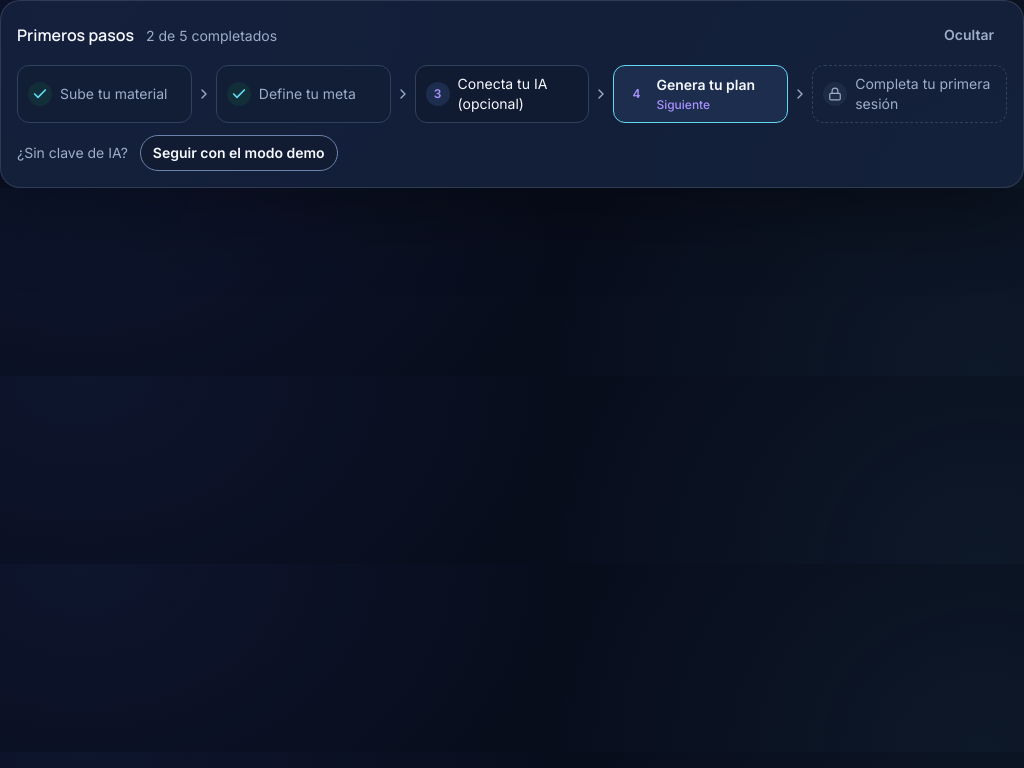
Scenario: GettingStarted › marks the AI step when the learner keeps the demo mode
The image size is (1024, 768).
What coordinates should you click on to do the following:
click the button "Seguir con el modo demo"
I would click on:
 (239, 153)
Its box is [140,135,338,171].
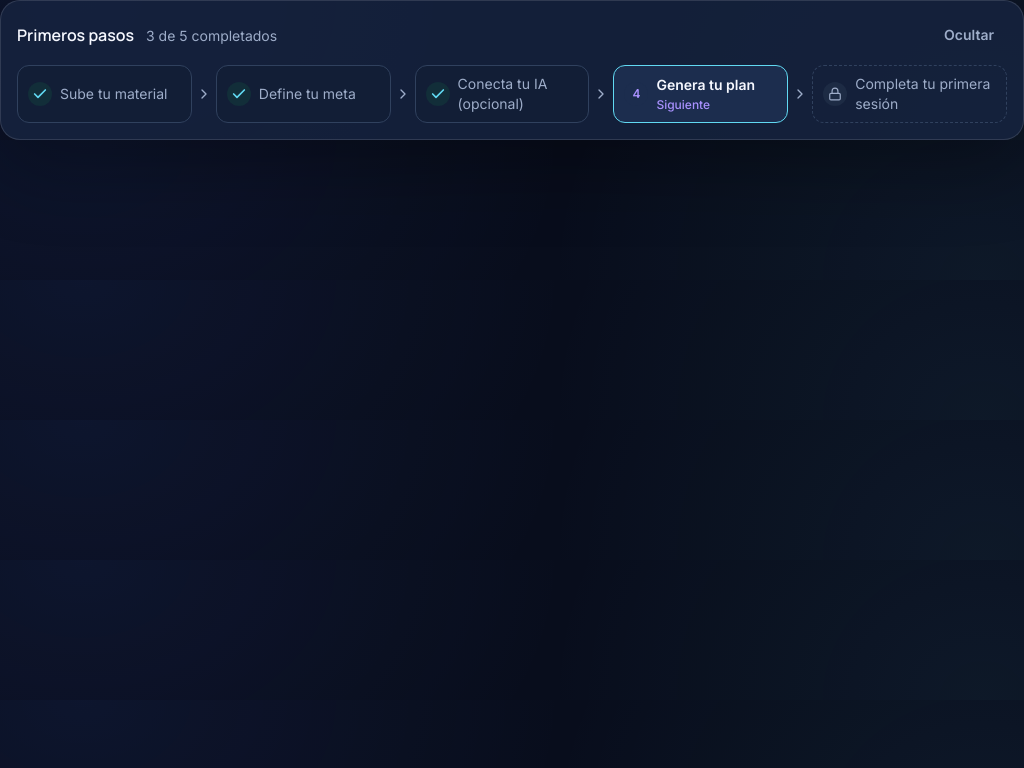
Expected: the element "Primeros pasos" shows "3 de 5 completados", [0,0,1023,140]
